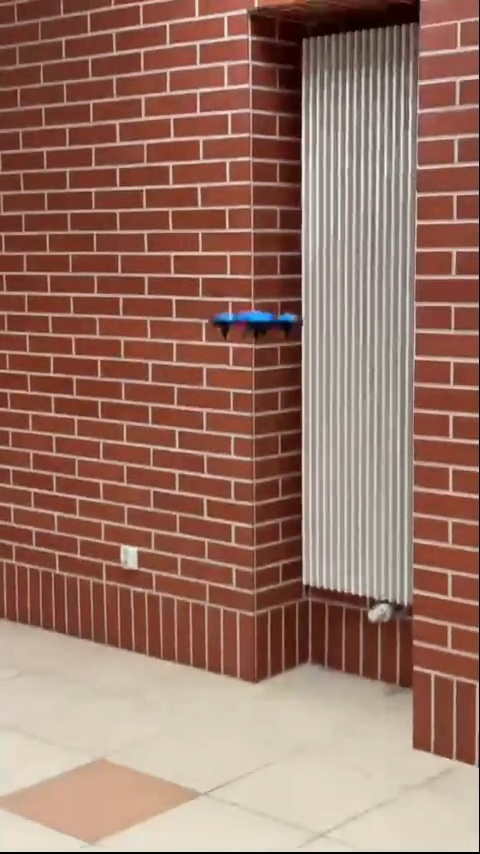drone: (209, 306, 301, 338)
